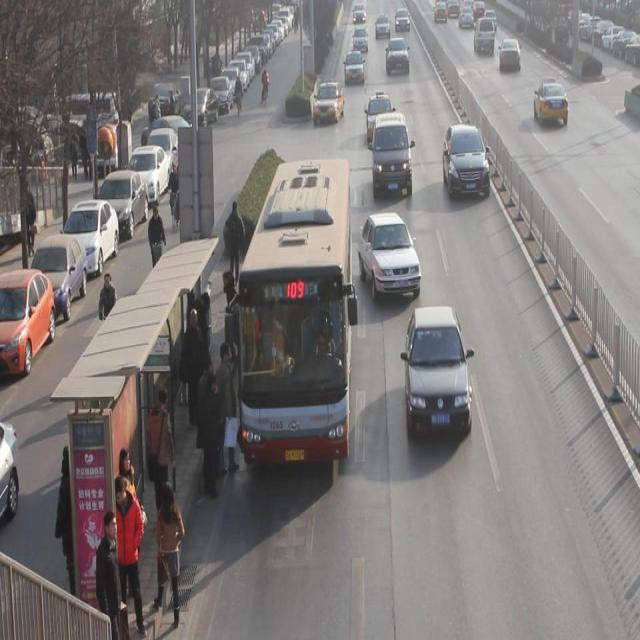car: (405, 306, 471, 437), (358, 211, 422, 301), (443, 124, 490, 198), (533, 77, 569, 126), (312, 78, 345, 126), (367, 90, 394, 146), (386, 36, 410, 74), (344, 49, 365, 83), (500, 38, 521, 71), (353, 27, 368, 51)
truck: (372, 112, 412, 196), (474, 17, 495, 52)
van: (236, 160, 348, 456)
